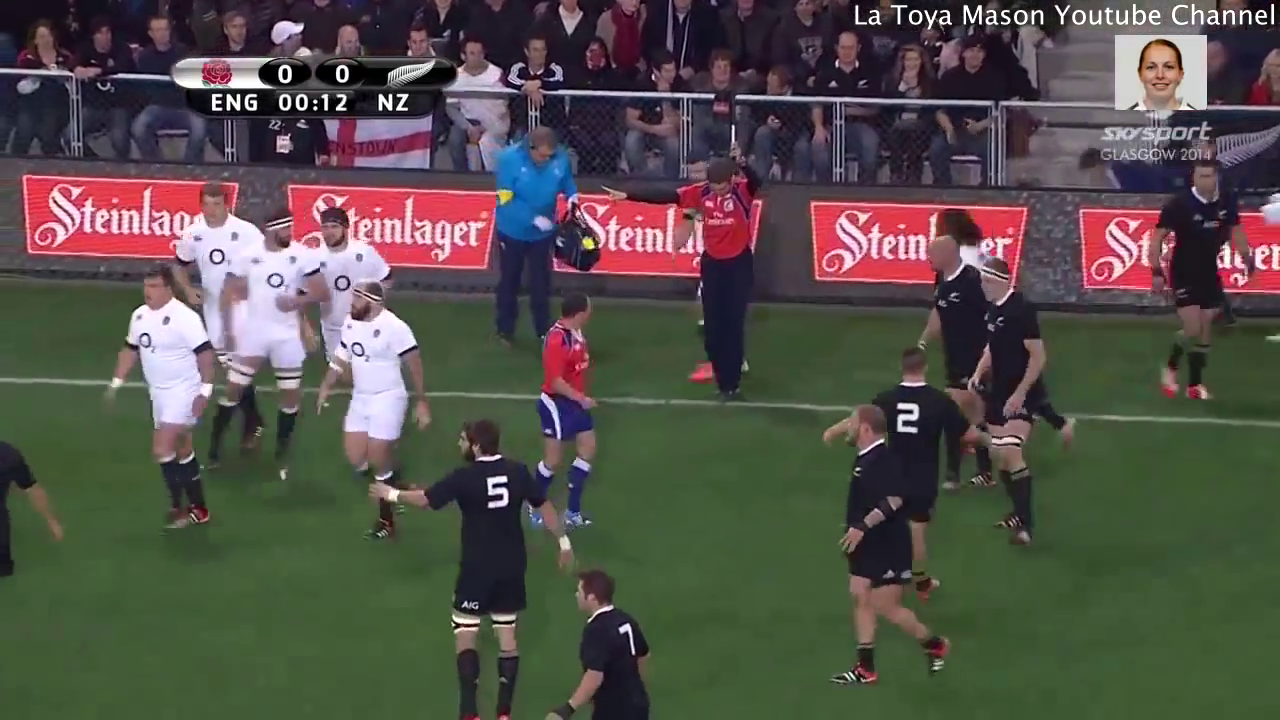player: (369, 408, 575, 720), (601, 150, 763, 431), (826, 397, 954, 692), (205, 191, 310, 499), (100, 264, 217, 532), (322, 278, 432, 544), (968, 248, 1052, 562), (1143, 154, 1241, 404), (859, 340, 962, 563), (526, 288, 608, 555), (549, 563, 663, 720), (1, 393, 66, 601), (913, 233, 984, 404), (168, 188, 257, 317), (316, 195, 393, 331)
